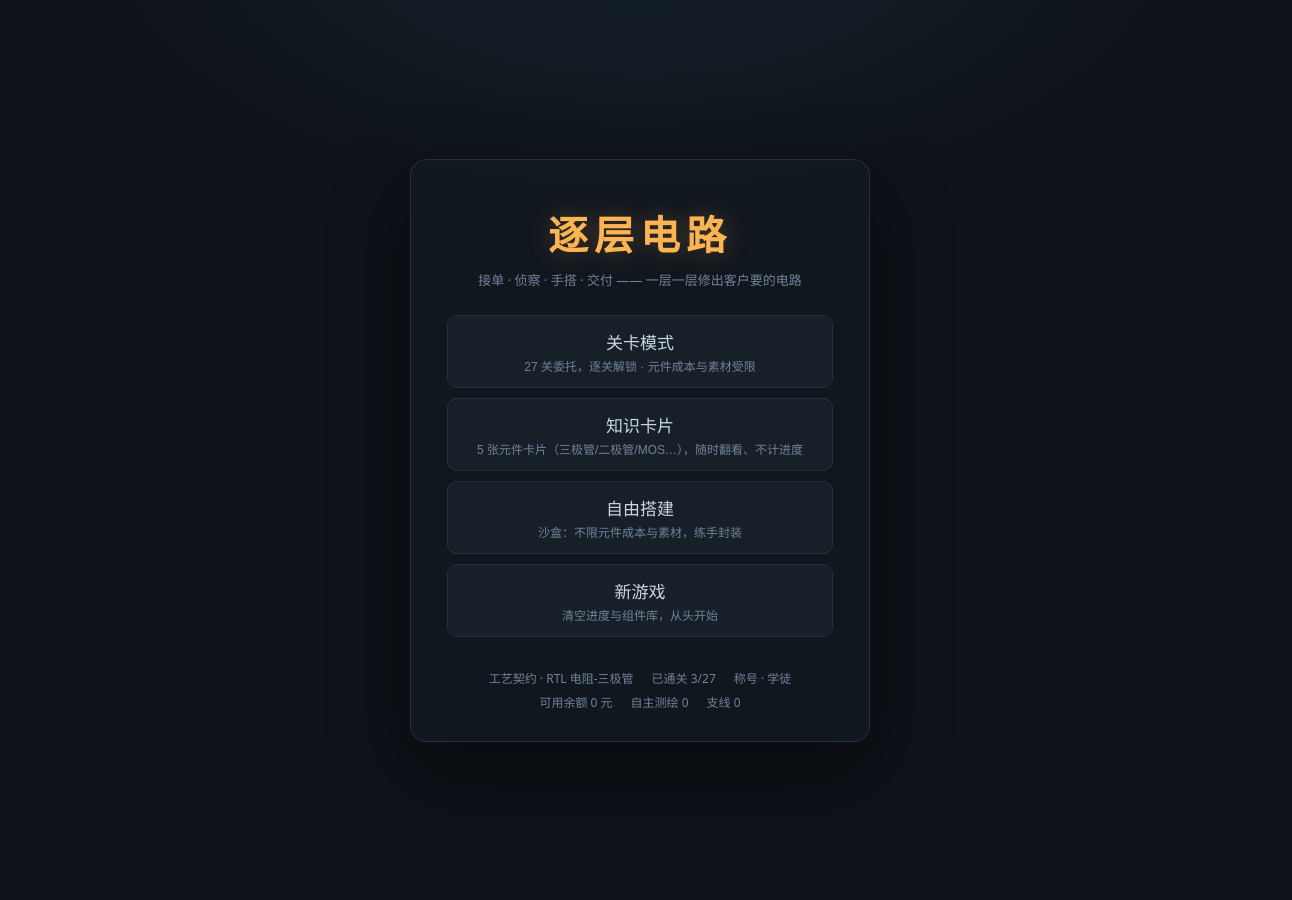
Test: 手动封装（D 路径）的 provenance › 产品事实：关卡里**没有**手动封装按钮（时序关）—— D 路径产物因此永远无 levelId
Click the button "关卡模式 27 关委托，逐关解锁 · 元件成本与素材受限" at (640, 351), box [447, 314, 833, 388]
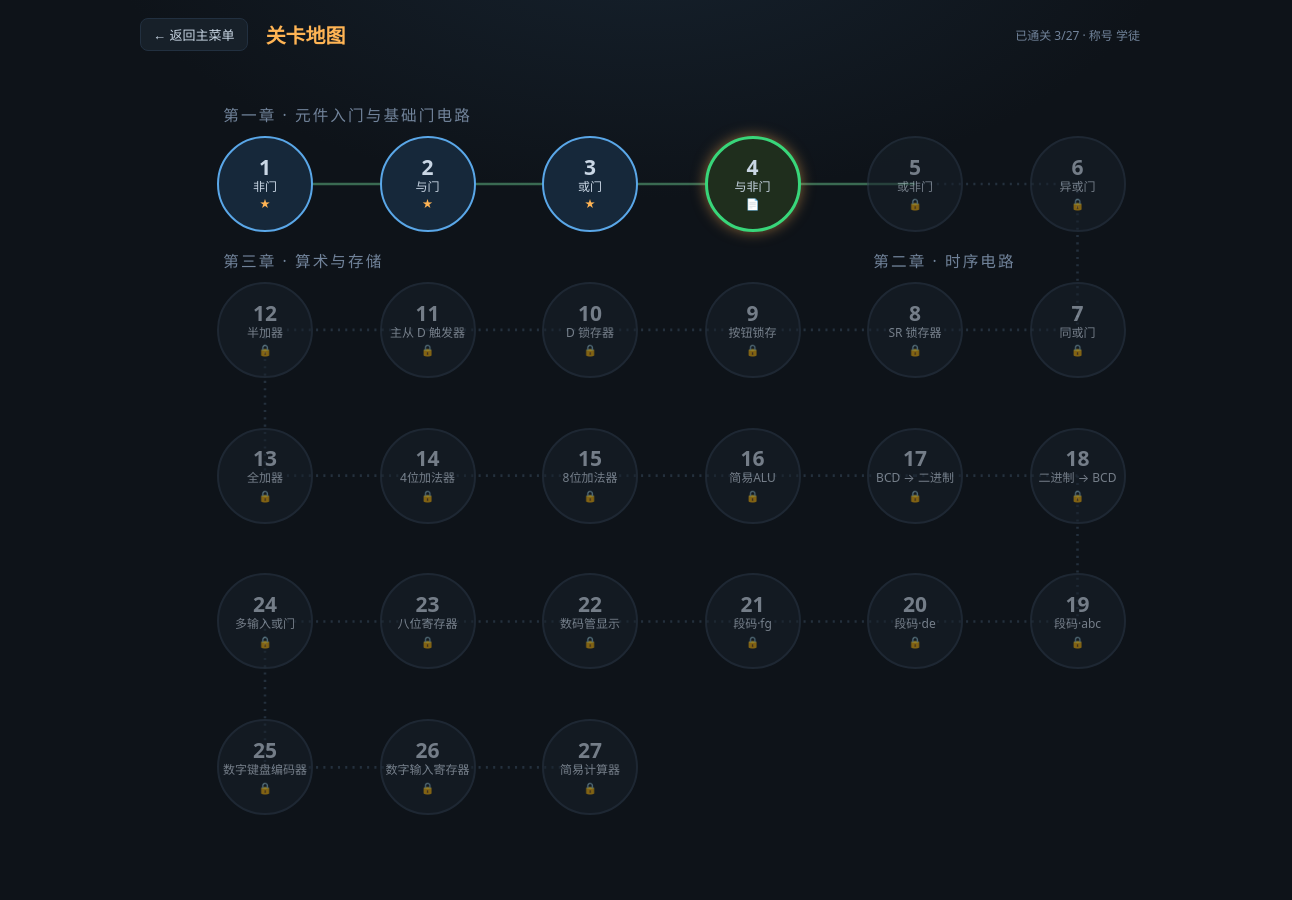
Click the text "与非门" at (752, 187), box [734, 180, 770, 194]
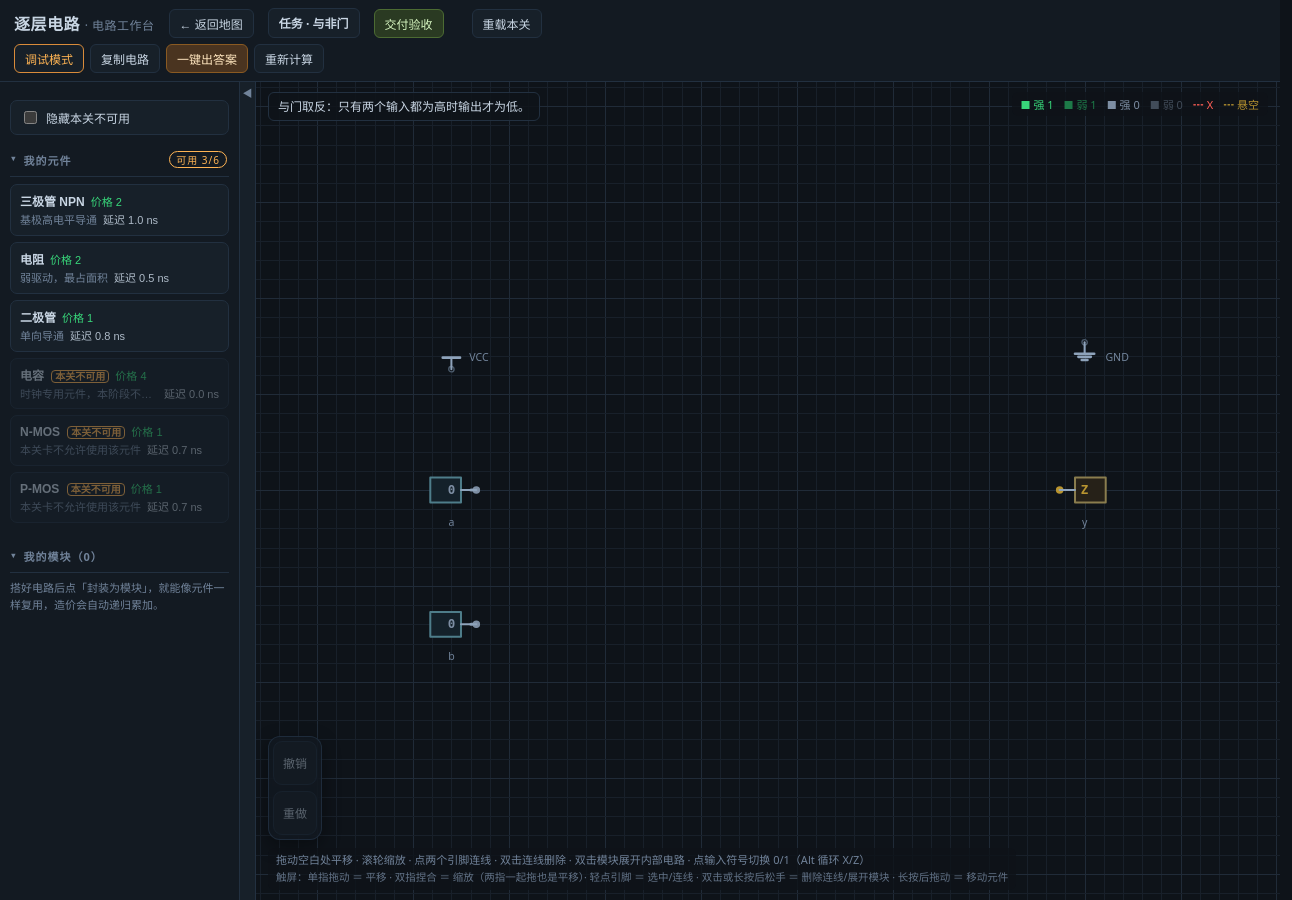
Check: the button "一键出答案" is shown, box [166, 44, 248, 73]
Check: the button "重载本关" is shown, box [472, 8, 542, 38]
